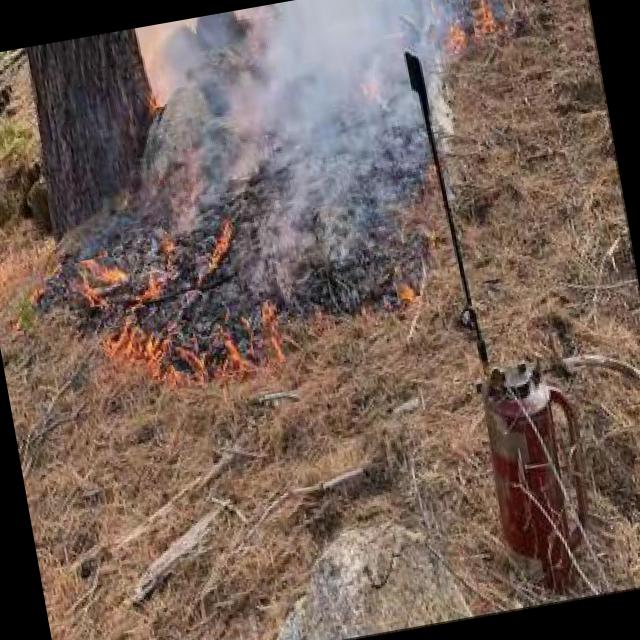fire: (62, 252, 134, 310), (108, 321, 156, 375), (168, 337, 206, 399), (220, 316, 256, 372), (259, 300, 286, 364), (469, 0, 507, 34), (436, 19, 468, 56), (394, 276, 420, 300)
